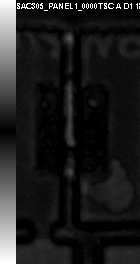led: (35, 84, 109, 175)
